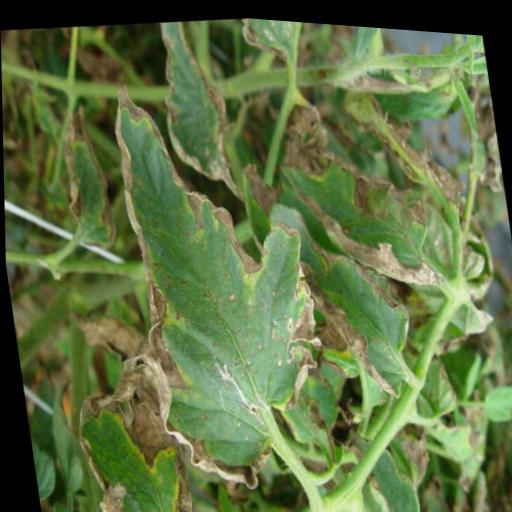Bacterial Spot: (80, 60, 343, 512)
